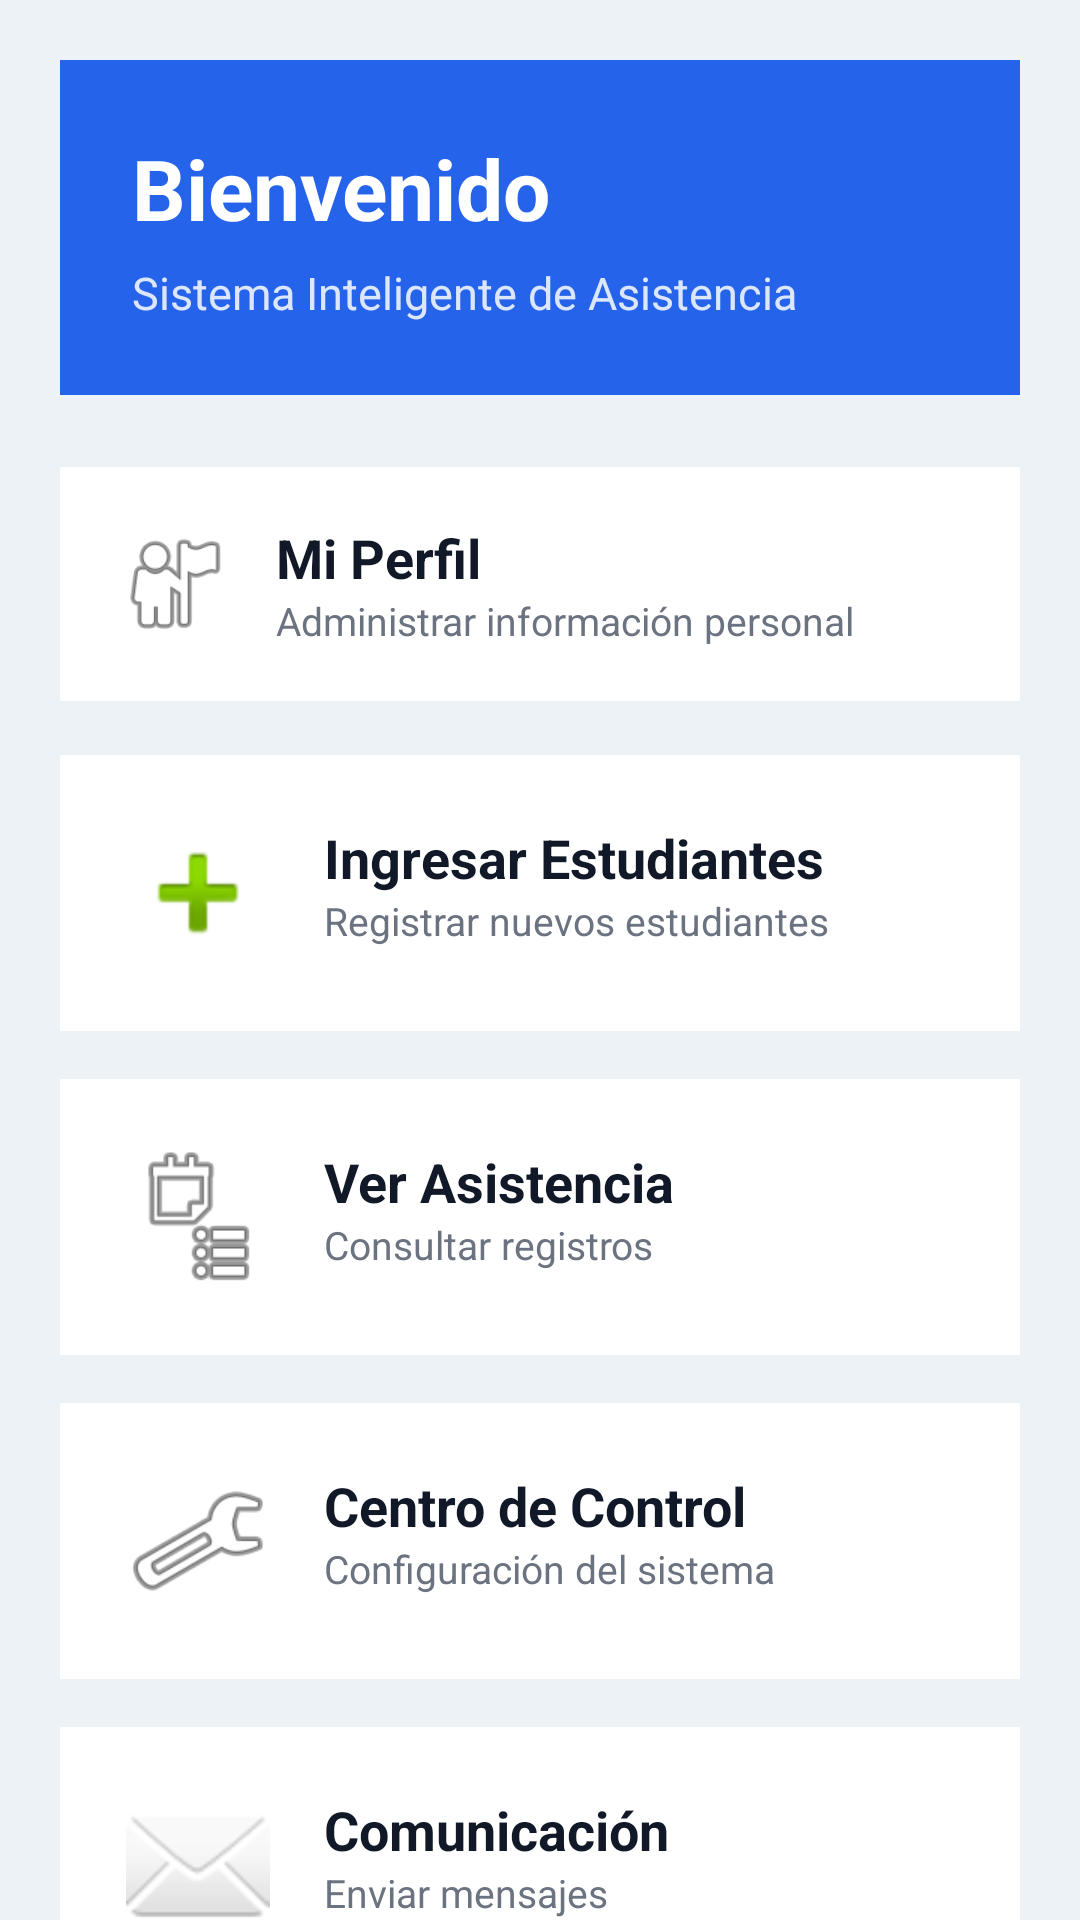

Where icons sit on this 1080x1920 app screen, as (x1,y1,x2,y2):
add: (157,852,239,934)
agenda: (148,1152,249,1280)
manage: (133,1491,263,1591)
myplaces: (130,539,220,629)
